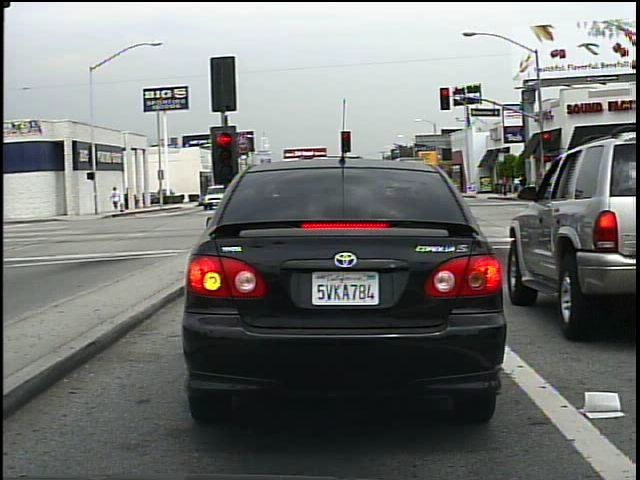person: (516, 170, 531, 203), (110, 184, 124, 214)
